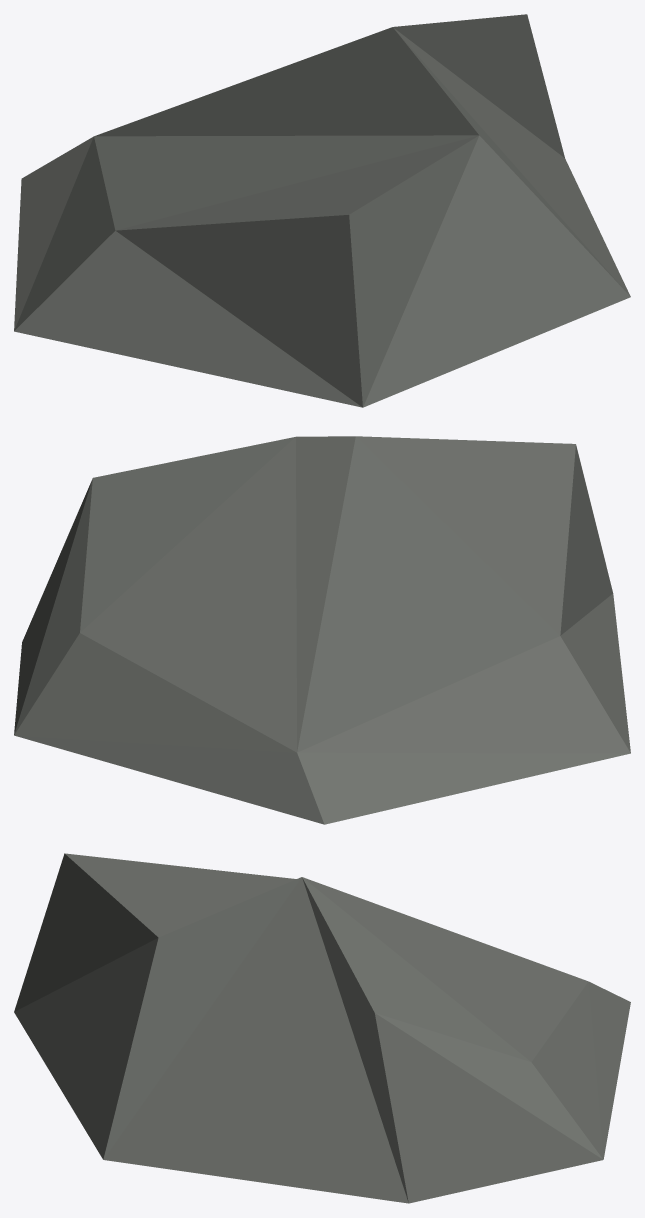
File: Rocks_004.fbx
3 views of the same model, one above another, from view 1: azimuth 30°, elevation 25°; view 2: azimuth 150°, elevation 25°; view 3: azimuth 270°, elevation 25° (orthographic). The views are drawn at different scales.
Visible parts, largest first — view 1: Rocks_004; view 2: Rocks_004; view 3: Rocks_004.
Boxes of the visible parts, box(x1,y1,x2,y2) form: Rocks_004: box(14, 14, 630, 407); Rocks_004: box(14, 436, 630, 824); Rocks_004: box(14, 853, 630, 1203).
Bounding box in the file's own units: 29.03 × 10.69 × 27.24.
